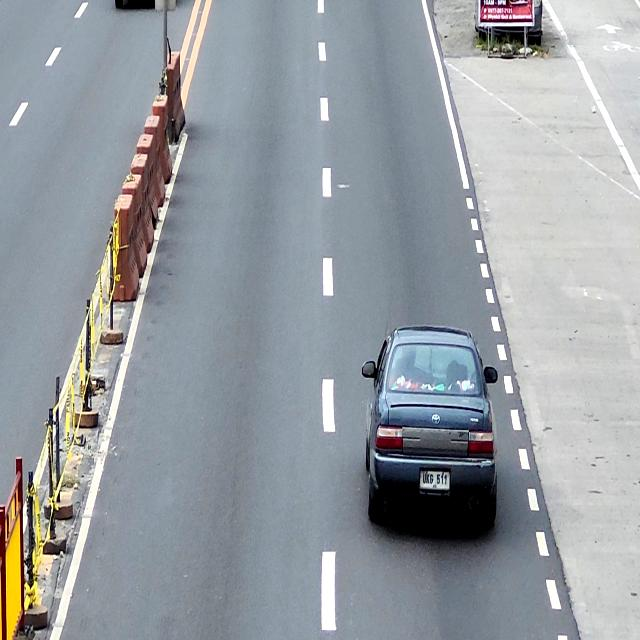Car: (362, 325, 498, 531)
License-Plate: (420, 470, 450, 490)
